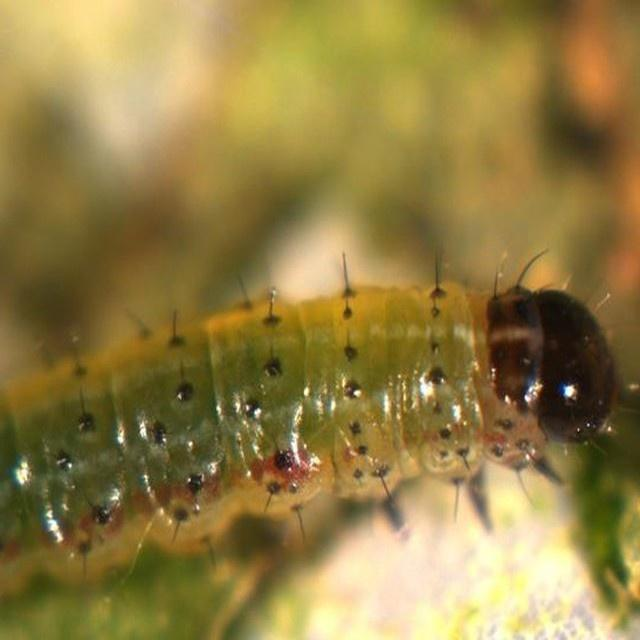worm: (1, 245, 636, 578)
